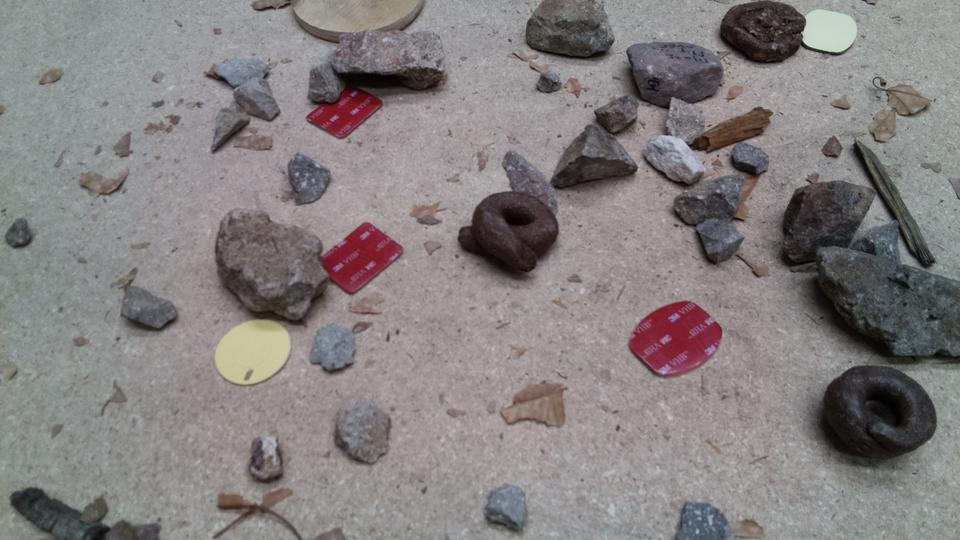poop: (819, 362, 939, 468), (455, 188, 561, 275), (717, 1, 807, 66)
